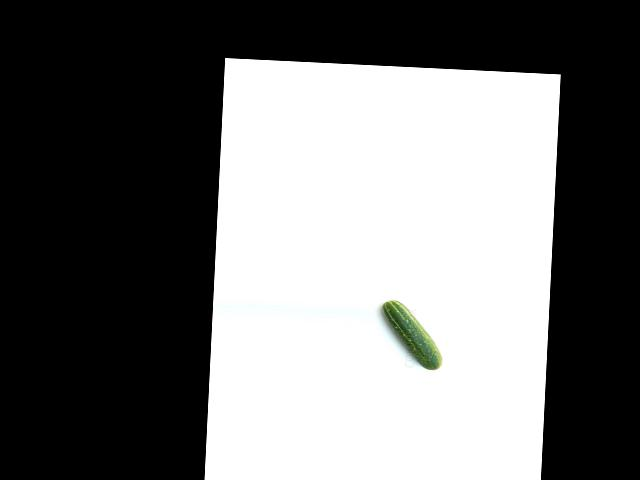cucumber: (379, 299, 445, 370)
